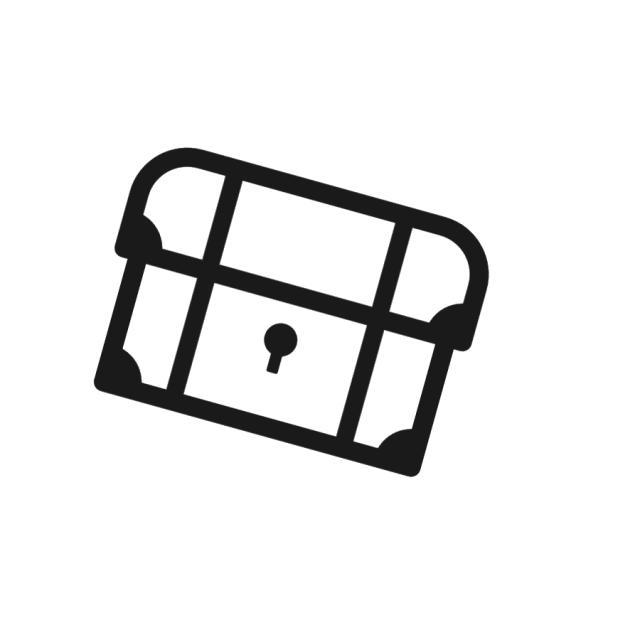treasure_box: (87, 147, 493, 486)
